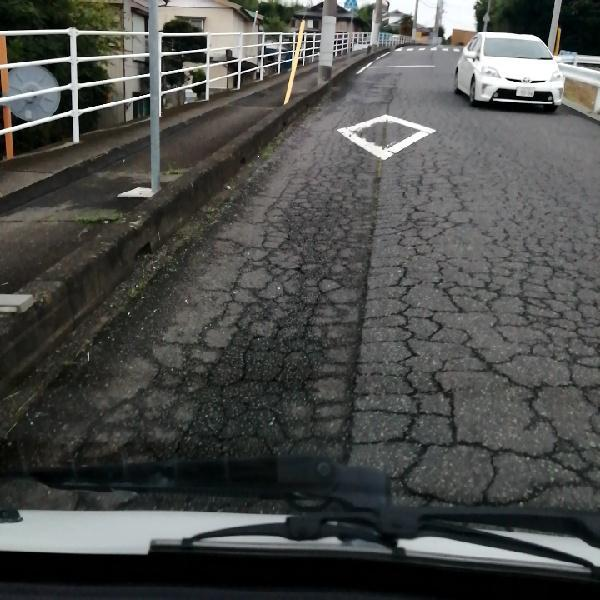D20: (137, 132, 599, 473)
